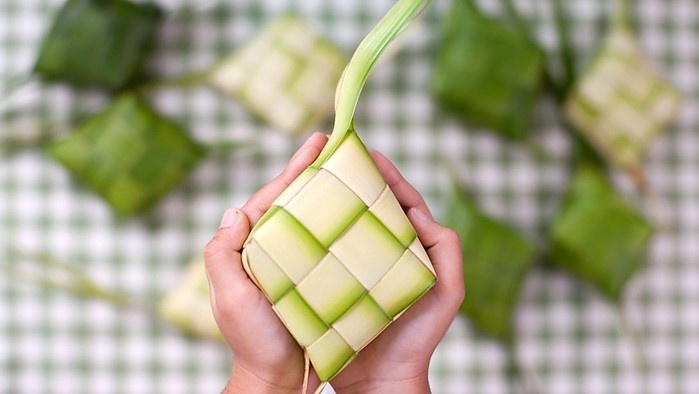ketupat: (241, 127, 437, 385)
